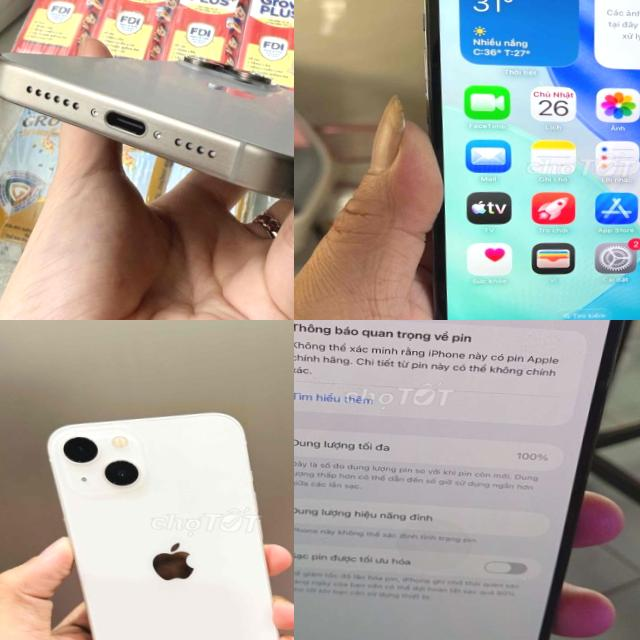gen_12_13: (399, 0, 640, 320), (47, 413, 278, 640)
gen_14: (294, 320, 636, 640)
gen_15: (0, 34, 294, 219)
